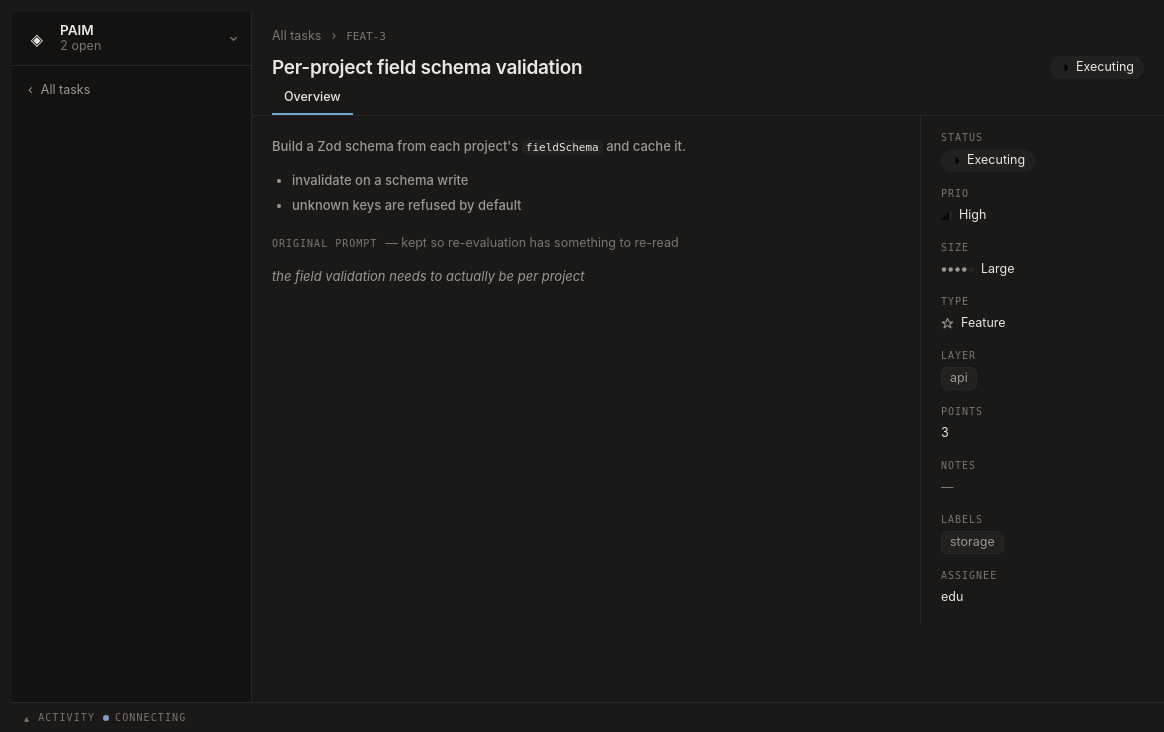
Test: the deep link › goes back to the table from the crumb
Click the link "All tasks". click: (297, 36)
box: [272,28,321,45]
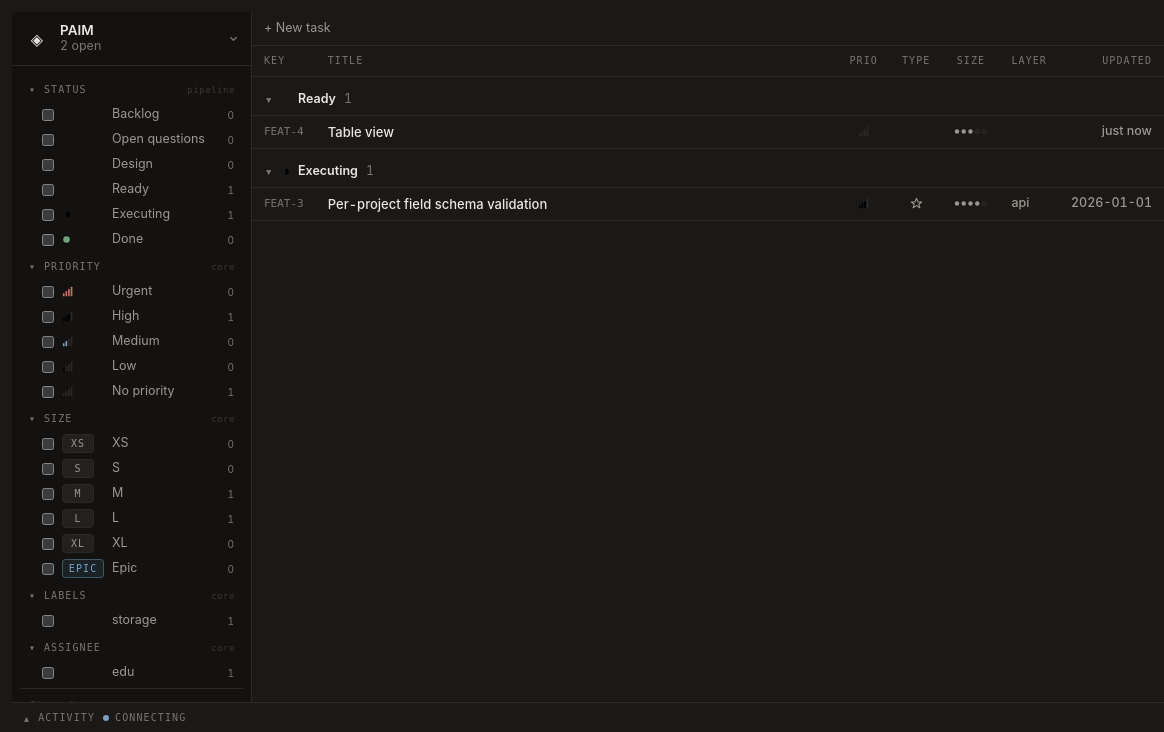
Result: the table is shown at [252,46,1163,221]
